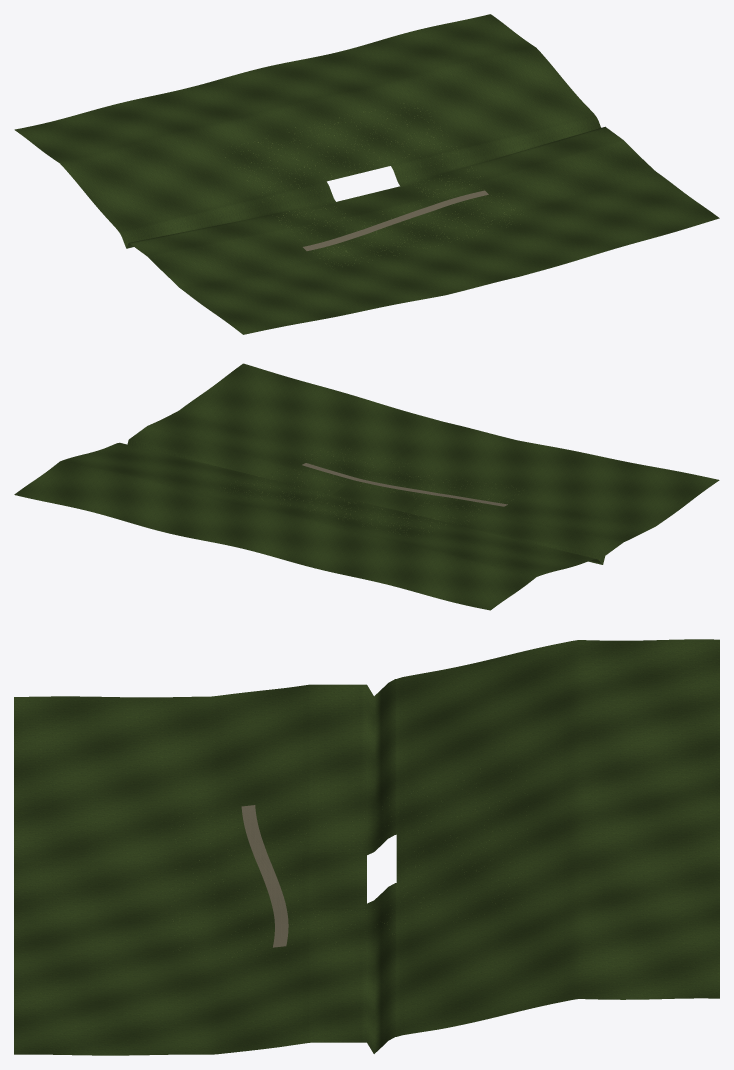
Rendered from zaoyuan_surroundings.glb.
3 renders of one model, top to bottom at view 1: azimuth 30°, elevation 25°; view 2: azimuth 150°, elevation 25°; view 3: azimuth 270°, elevation 25°, orthographic. The views are drawn at different scales.
Visible parts, largest first — view 1: site_courtyard_site_living_ground_CC0.002, site_courtyard_site_summer_worn_paving.002; view 2: site_courtyard_site_living_ground_CC0.002, site_courtyard_site_summer_worn_paving.002, site_landscape-vegetation_site_summer_grass_0.002; view 3: site_courtyard_site_living_ground_CC0.002, site_courtyard_site_summer_worn_paving.002.
Boxes of the visible parts, x1,y1,x2,y2 form: site_courtyard_site_living_ground_CC0.002: (14, 14, 719, 334); site_courtyard_site_summer_worn_paving.002: (303, 190, 488, 250); site_courtyard_site_living_ground_CC0.002: (14, 363, 719, 610); site_courtyard_site_summer_worn_paving.002: (302, 463, 507, 506); site_landscape-vegetation_site_summer_grass_0.002: (223, 448, 527, 536); site_courtyard_site_living_ground_CC0.002: (14, 639, 719, 1055); site_courtyard_site_summer_worn_paving.002: (241, 805, 288, 947).
Size of the model in its own units: 156 by 15.2 by 130.
Materials: 5 (2 with a texture image).
